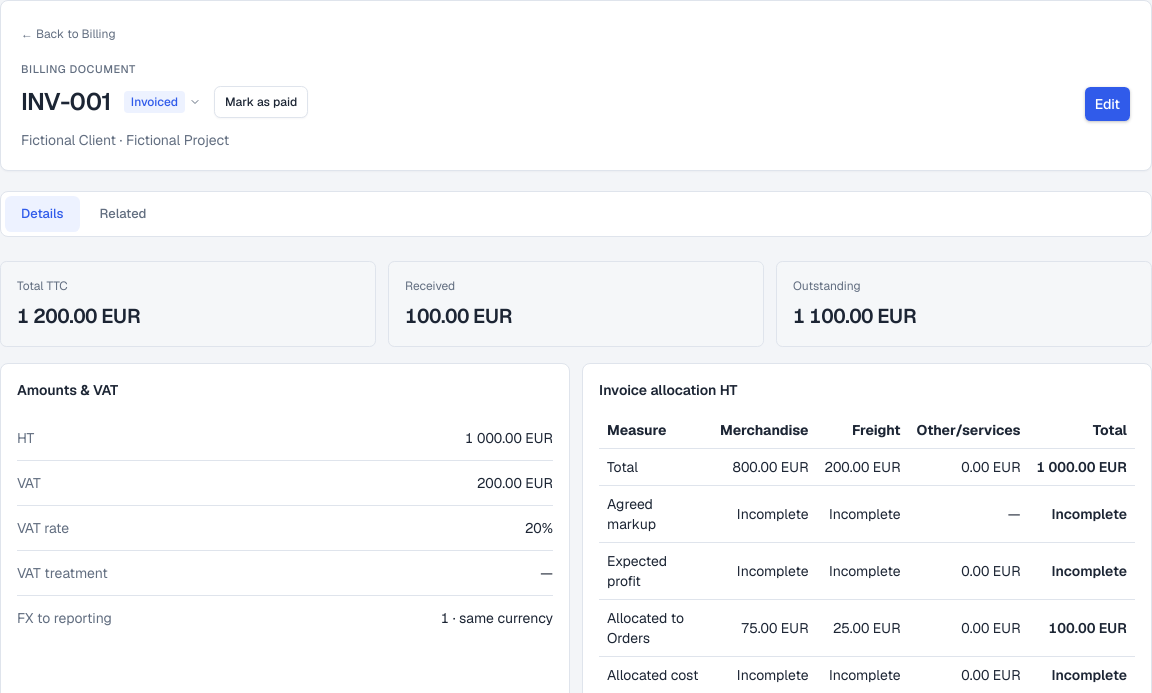
it: uses the contextual document date for INVOICE INVOICED
Click the button "Edit" at (1107, 104), box [1084,86,1131,122]
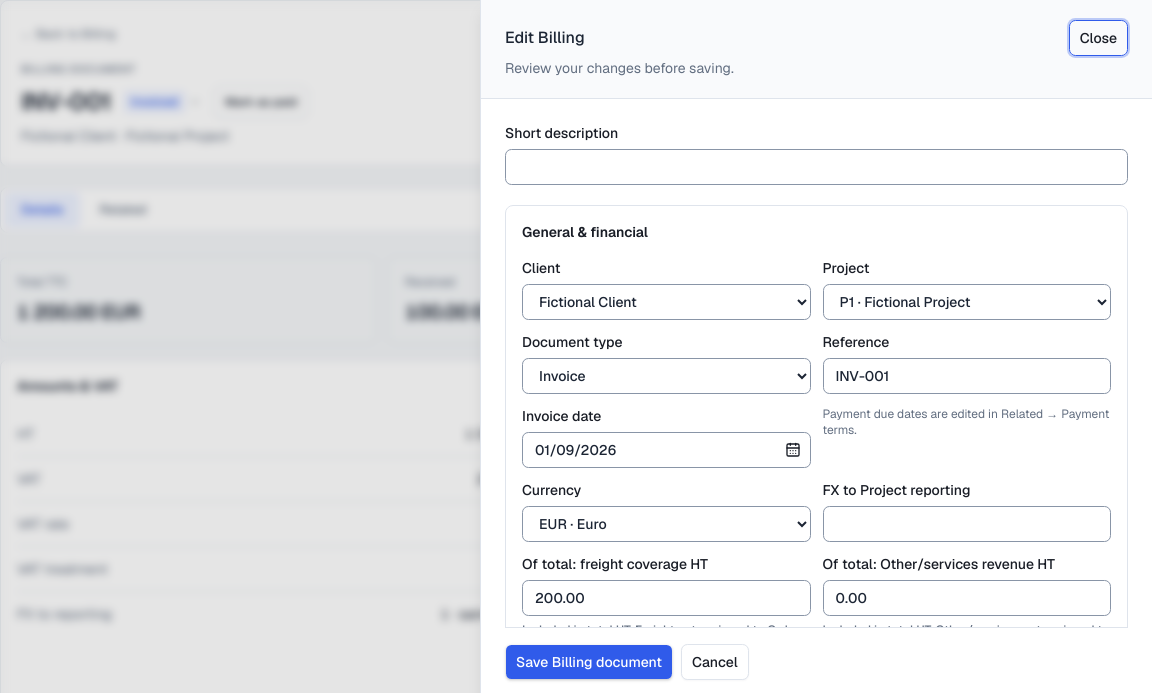
Now the dialog shows "Invoice date", box [522,407,601,425]
